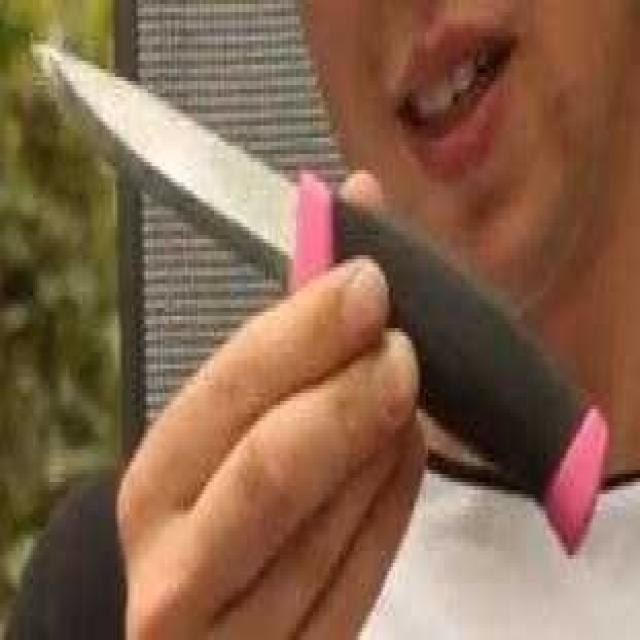knife: (27, 35, 612, 558)
